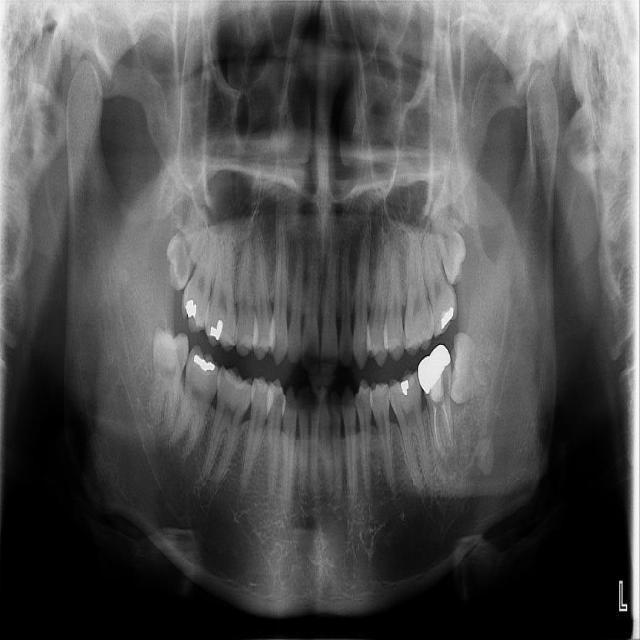3M ESPE Implant: (153, 197, 216, 295)
52: (172, 342, 236, 406), (411, 343, 462, 408), (381, 366, 431, 419), (422, 277, 464, 339), (204, 292, 238, 352), (180, 270, 212, 333)
73: (427, 394, 456, 459), (591, 572, 594, 582)
BioHorizons Implant: (415, 210, 462, 338)
BioLife Implant: (424, 194, 475, 287)
Biomet 3i Implant: (446, 330, 495, 408)
Blue Sky Bio Implant: (417, 343, 455, 459)
Caries: (176, 220, 222, 335)
Implant: (167, 343, 226, 460)
Keystone Dental Implant: (136, 324, 193, 433)
